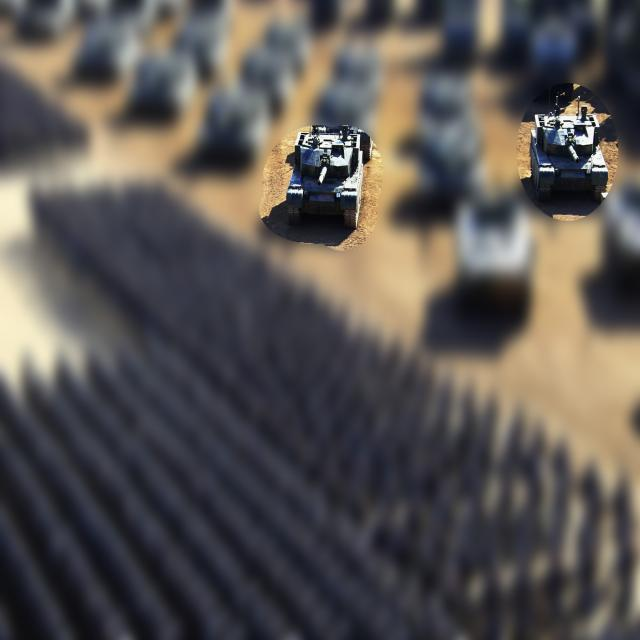MIL_MBT: (518, 82, 618, 220), (285, 126, 377, 234)
